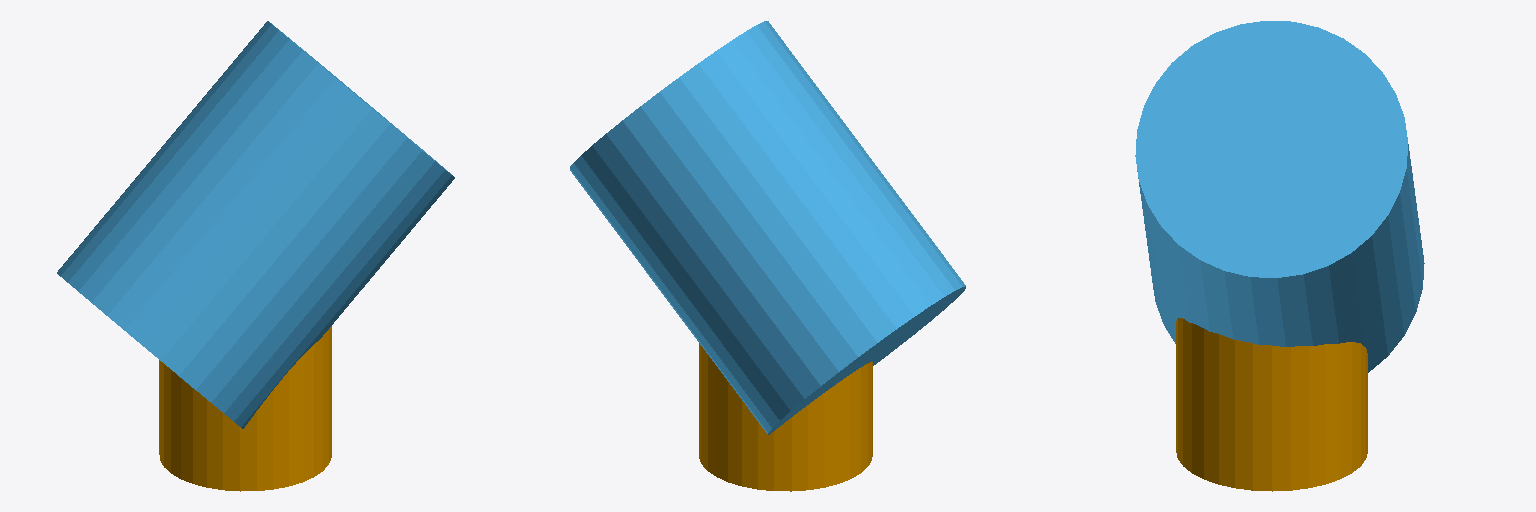
robot.urdf — pepe:
<?xml version="1.0"?><robot name="pepe">
	<link name="0">
		<visual>
			<geometry>
				<cylinder length="2.2897371470123566" radius="0.7030700459111242"/>
			</geometry>
		</visual>
		<collision>
			<geometry>
				<cylinder length="2.2897371470123566" radius="0.7030700459111242"/>
			</geometry>
		</collision>
		<inertial>
			<mass value="3.5557620726981525"/>
			<inertia ixx="0.03" iyy="0.03" izz="0.03" ixy="0" ixz="0" iyx="0"/>
		</inertial>
	</link>
	<link name="11">
		<visual>
			<geometry>
				<cylinder length="2.6780468539074365" radius="0.9999"/>
			</geometry>
		</visual>
		<collision>
			<geometry>
				<cylinder length="2.6780468539074365" radius="0.9999"/>
			</geometry>
		</collision>
		<inertial>
			<mass value="8.411649739873743"/>
			<inertia ixx="0.03" iyy="0.03" izz="0.03" ixy="0" ixz="0" iyx="0"/>
		</inertial>
	</link>
	<link name="22">
		<visual>
			<geometry>
				<cylinder length="1.3157814894624411" radius="0.044973392465533335"/>
			</geometry>
		</visual>
		<collision>
			<geometry>
				<cylinder length="1.3157814894624411" radius="0.044973392465533335"/>
			</geometry>
		</collision>
		<inertial>
			<mass value="0.008360744325191393"/>
			<inertia ixx="0.03" iyy="0.03" izz="0.03" ixy="0" ixz="0" iyx="0"/>
		</inertial>
	</link>
	<joint name="11_to_0" type="revolute">
		<parent link="0"/>
		<child link="11"/>
		<axis xyz="0 1 0"/>
		<limit effort="1" upper="-3.1415" lower="3.1415" velocity="1"/>
		<origin rpy="0.7978502867217495 6.225550231962962 1.5650392050855029" xyz="0.1319503410670193 0.058181755163629334 0.8637086315317808"/>
	</joint>
	<joint name="22_to_11" type="revolute">
		<parent link="11"/>
		<child link="22"/>
		<axis xyz="0 1 0"/>
		<limit effort="1" upper="-3.1415" lower="3.1415" velocity="1"/>
		<origin rpy="0.9344515584297214 6.005903816359474 1.1997144829788742" xyz="0.3513995058317556 0.18706744869735326 0.3709548608972051"/>
	</joint>
</robot>

--- Render facts (derived) ---
Views: 3 orthographic renders of the robot side by side, from view 1: azimuth 30°, elevation 25°; view 2: azimuth 150°, elevation 25°; view 3: azimuth 270°, elevation 25°.
Robot: pepe — 3 links, 2 joints (2 revolute); root link 0; default pose: every joint at zero.
Visible links, largest first — view 1: 11, 0; view 2: 11, 0; view 3: 11, 0.
Link boxes in pixels (left/top/right/bottom): 11: left=57, top=21, right=454, bottom=428; 0: left=159, top=326, right=331, bottom=491; 11: left=570, top=21, right=965, bottom=434; 0: left=699, top=343, right=872, bottom=491; 11: left=1135, top=21, right=1424, bottom=372; 0: left=1176, top=318, right=1367, bottom=491.
Size in the robot's own frame: 3.31 by 2.12 by 3.66 metres.
Geometry: primitives only (box / cylinder / sphere), no mesh files.
